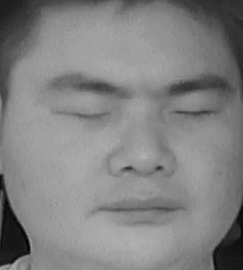blink: (62, 99, 111, 129), (173, 97, 222, 127)
mouth: (101, 188, 180, 227)
